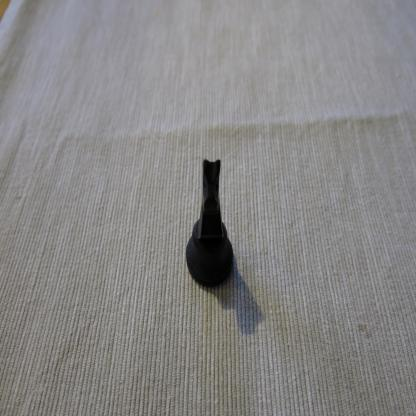black-knight: (185, 157, 235, 287)
